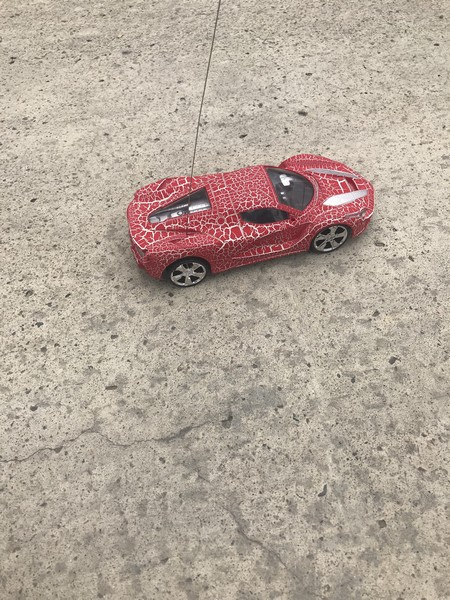RC: (126, 153, 377, 290)
